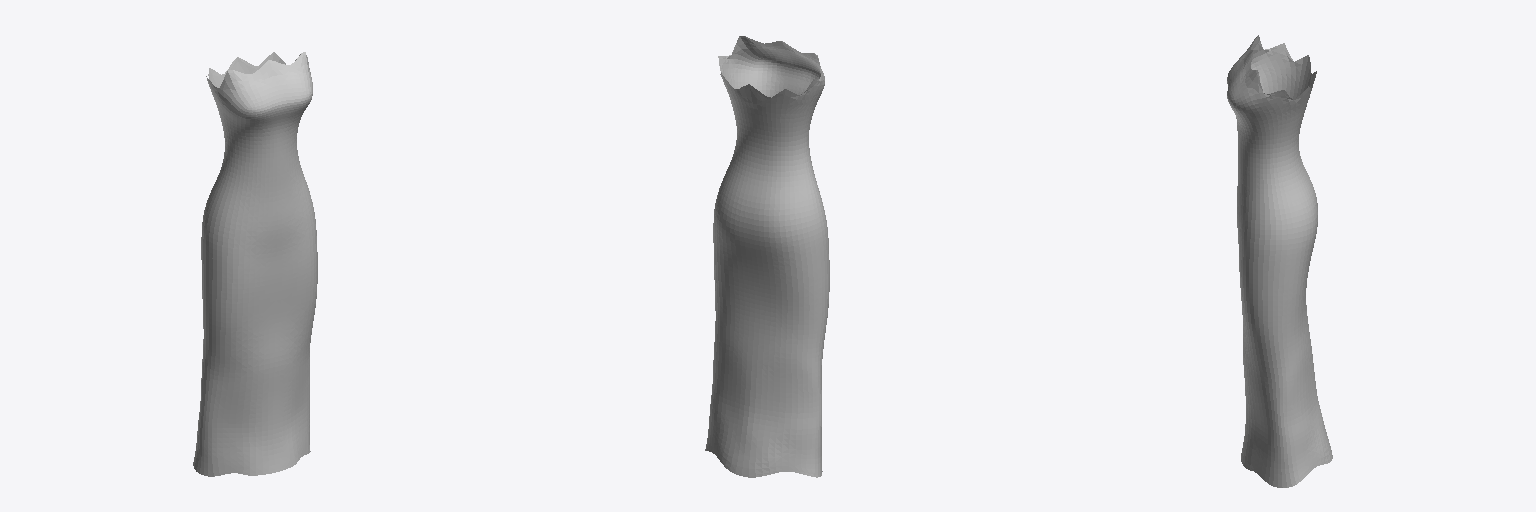
The model's file is Hawthroine DressForRetopo.OBJ.
The picture shows the model from 3 angles: view 1: azimuth 30°, elevation 25°; view 2: azimuth 150°, elevation 25°; view 3: azimuth 270°, elevation 25°; orthographic projection.
Parts seen in each view (by area): view 1: Group18829; view 2: Group18829; view 3: Group18829.
Part boxes in pixels (bbox=[...]): Group18829: bbox=[193, 52, 317, 476]; Group18829: bbox=[705, 36, 829, 477]; Group18829: bbox=[1227, 35, 1332, 487].
Size of the model in its own units: 27.67 by 97.73 by 22.74.